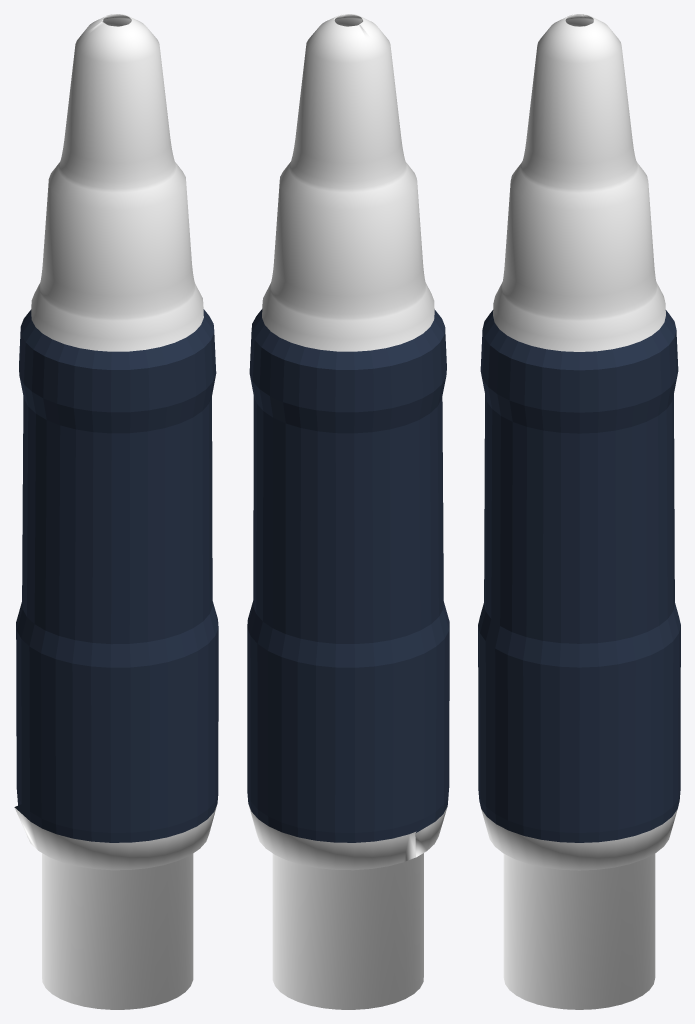
The model's file is pen1_1.fbx.
3 renders of one model, left to right at view 1: azimuth 30°, elevation 25°; view 2: azimuth 150°, elevation 25°; view 3: azimuth 270°, elevation 25°, orthographic.
Visible parts, largest first — view 1: pen1_1; view 2: pen1_1; view 3: pen1_1.
Boxes of the visible parts, bbox=[...] form: pen1_1: bbox=[14, 14, 218, 1009]; pen1_1: bbox=[247, 14, 449, 1009]; pen1_1: bbox=[478, 14, 680, 1009].
Bounding box in the file's own units: 13.54 × 70.49 × 13.54.
